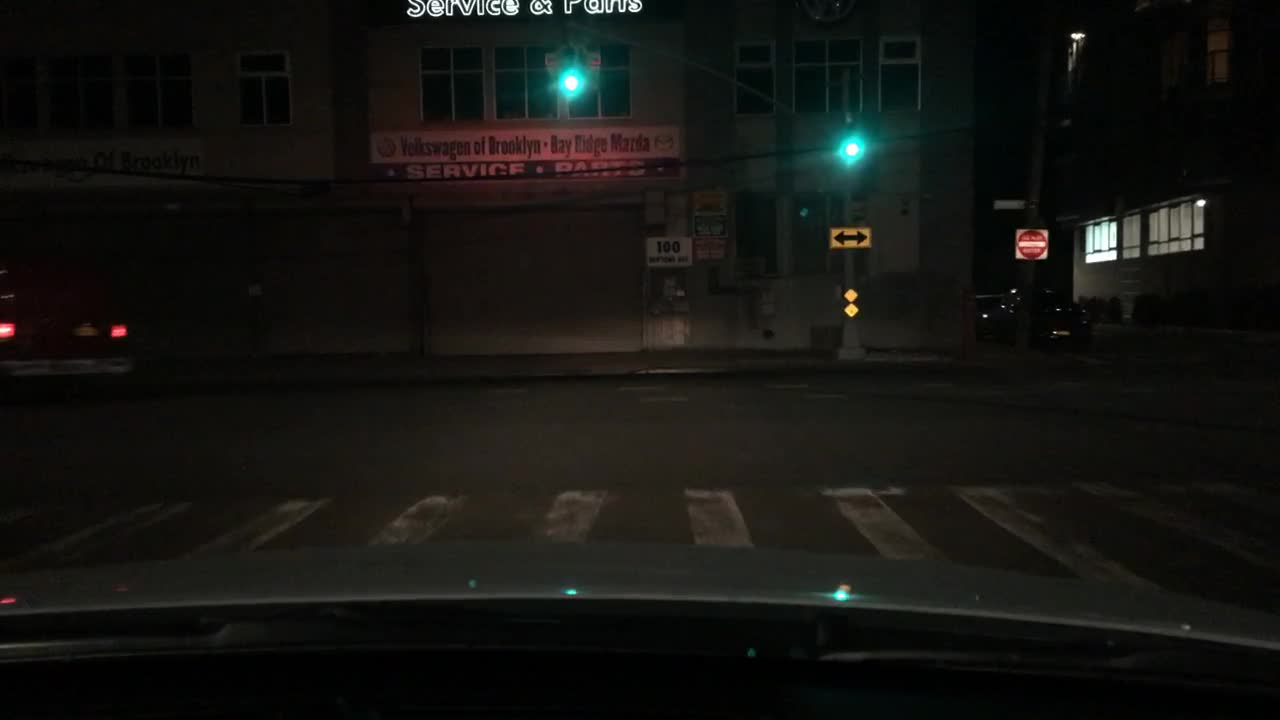car: (0, 263, 131, 380), (976, 288, 1093, 352), (977, 292, 1001, 309)
traffic light: (583, 41, 602, 94), (561, 45, 580, 95), (836, 128, 858, 168), (542, 49, 560, 91)
traffic sign: (1013, 225, 1050, 257), (828, 228, 870, 249), (992, 195, 1027, 210)
